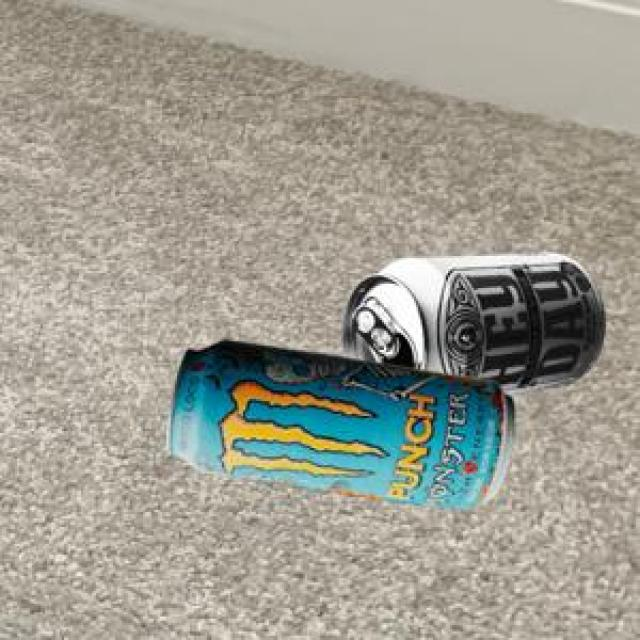logam: (163, 338, 511, 507), (338, 249, 598, 391)
